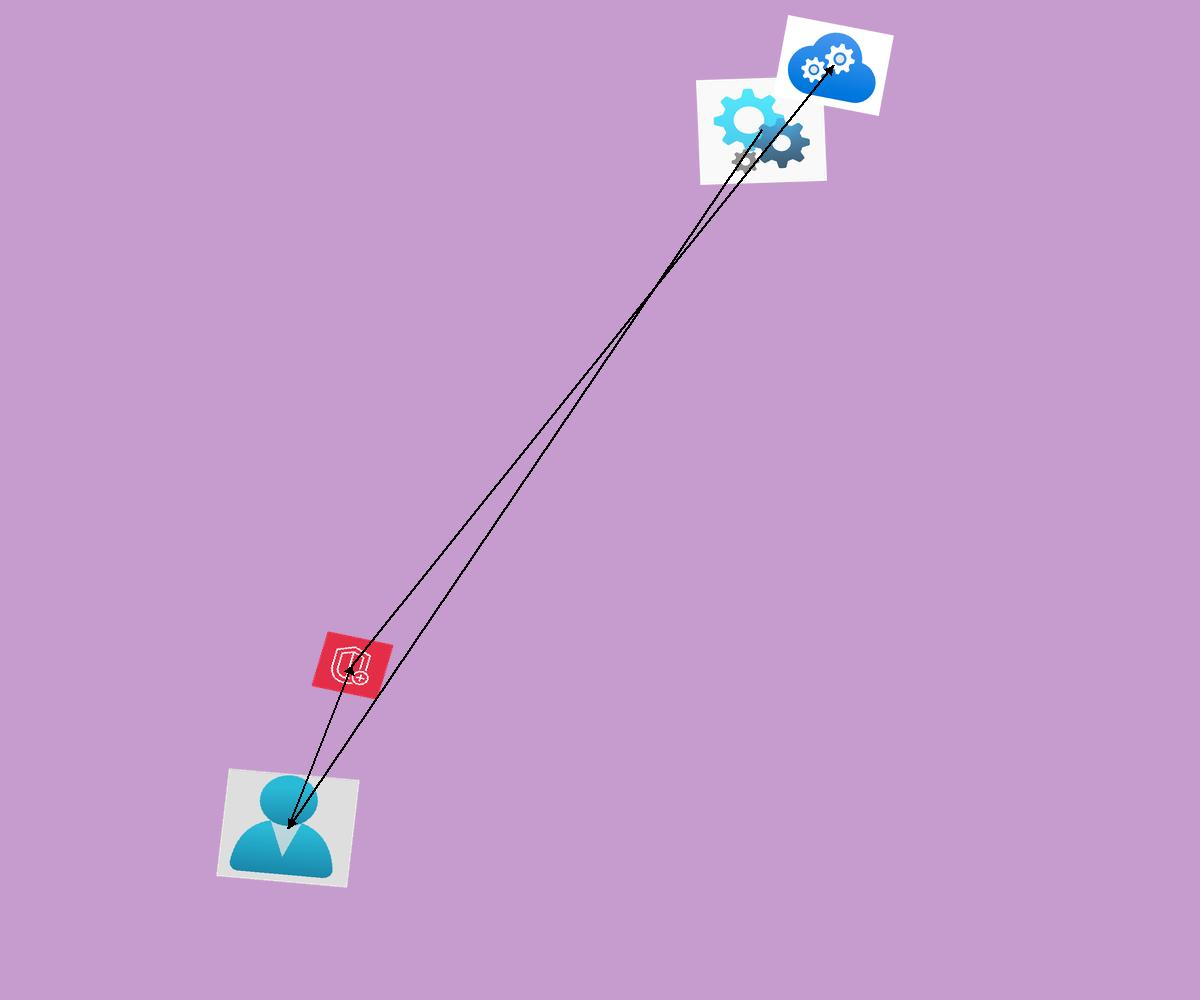AWS-Shield: (311, 631, 394, 700)
Azure_api: (696, 76, 827, 185)
Azure_cloud_services: (773, 15, 894, 116)
Azure_users: (216, 768, 360, 888)
